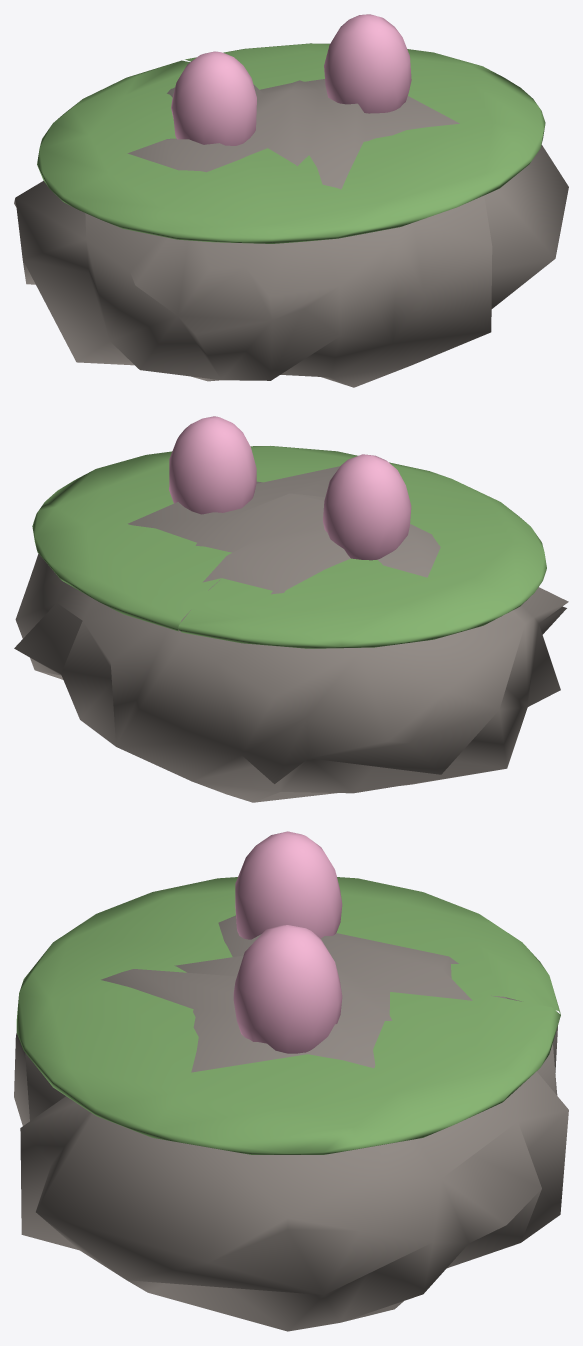
File: sp_isl3.glb
The picture shows the model from 3 angles, top to bottom: view 1: azimuth 30°, elevation 25°; view 2: azimuth 150°, elevation 25°; view 3: azimuth 270°, elevation 25°; orthographic projection. The views are drawn at different scales.
Size of the model in its own units: 12.65 by 8.01 by 10.15.
